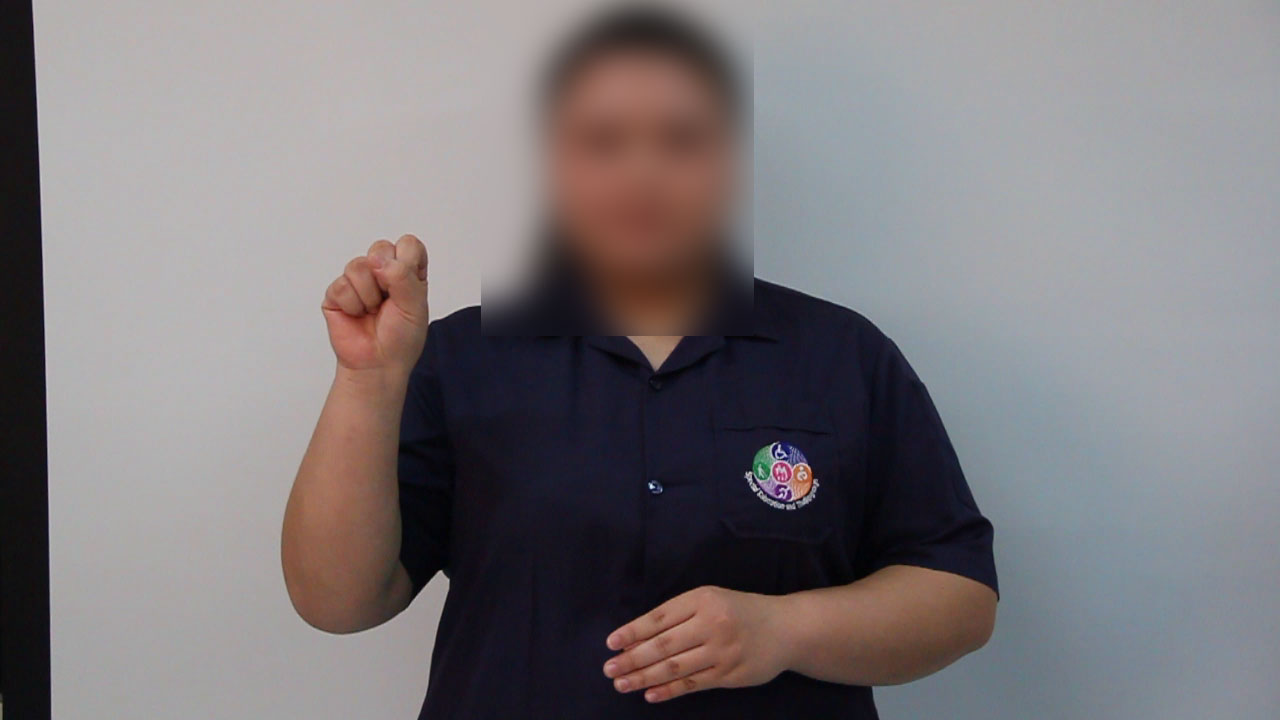sor: (304, 221, 450, 380)
